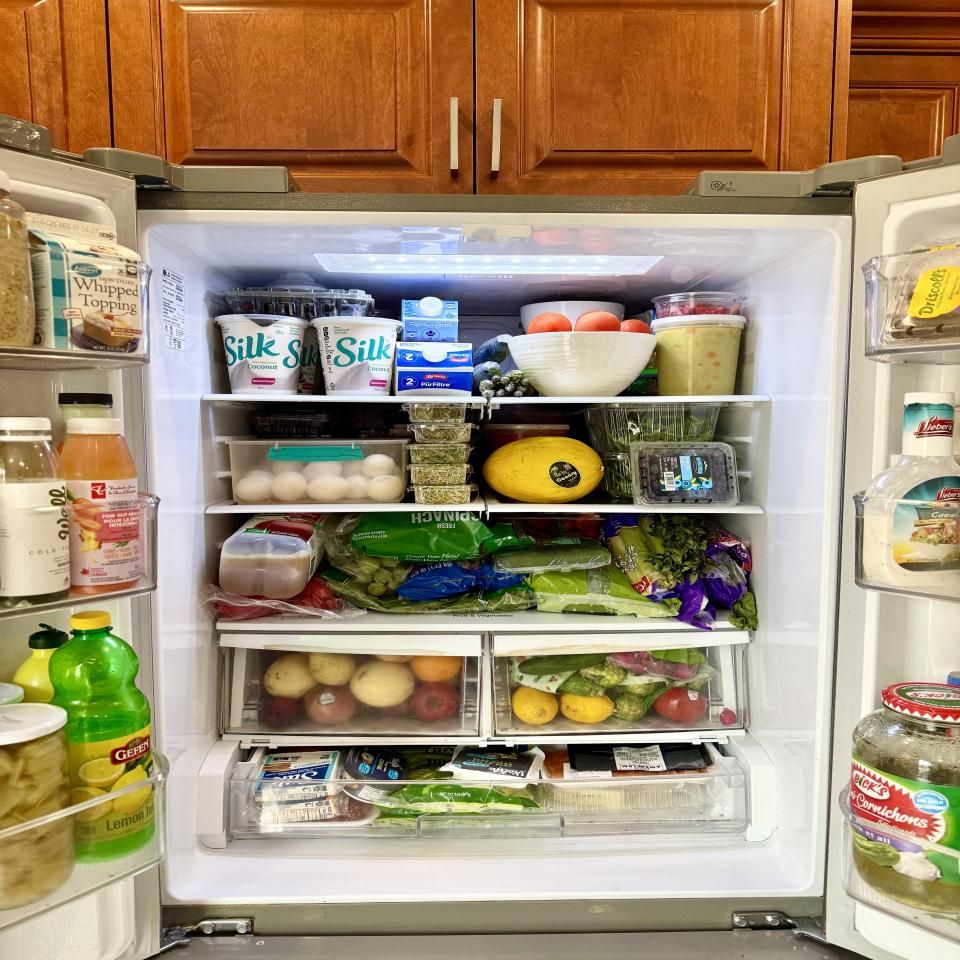Huevos: (237, 454, 402, 500)
Limón: (513, 686, 559, 724), (562, 691, 614, 723)
Manzana: (410, 681, 458, 720)
Pepino: (518, 654, 606, 676), (466, 335, 515, 364), (471, 362, 501, 392)
Tomate: (655, 688, 707, 723), (575, 311, 621, 334), (527, 313, 573, 334), (620, 320, 652, 334)
Yogur: (215, 314, 310, 395), (312, 317, 403, 396)
blueberries: (630, 443, 741, 506), (220, 286, 376, 318)
orange: (414, 655, 462, 682)
